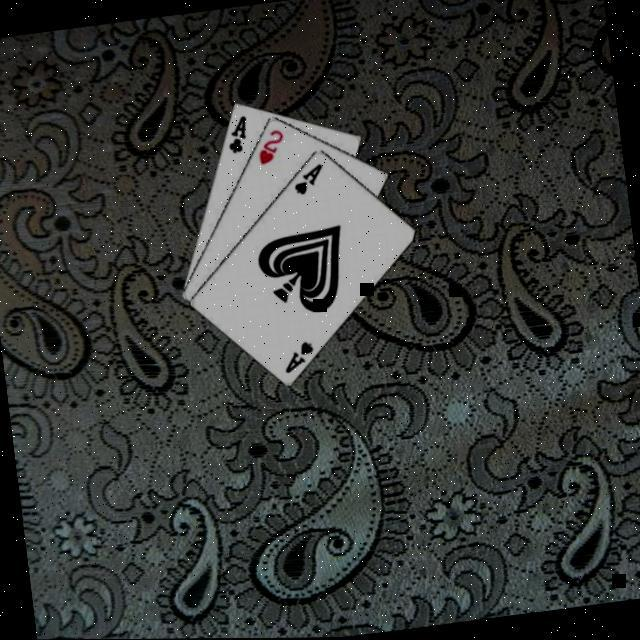2H: (255, 127, 291, 169)
AC: (223, 114, 254, 158)
AS: (280, 338, 320, 377), (290, 162, 329, 199)
